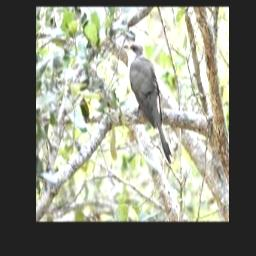Cuckoo: (124, 43, 172, 164)
